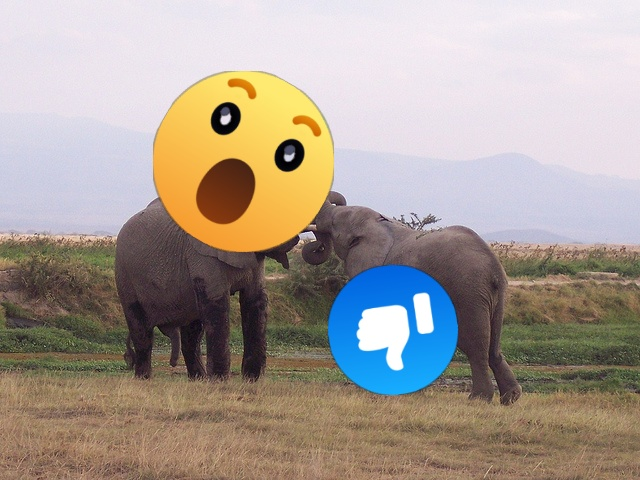like: (328, 265, 458, 395)
wow: (153, 71, 334, 252)
